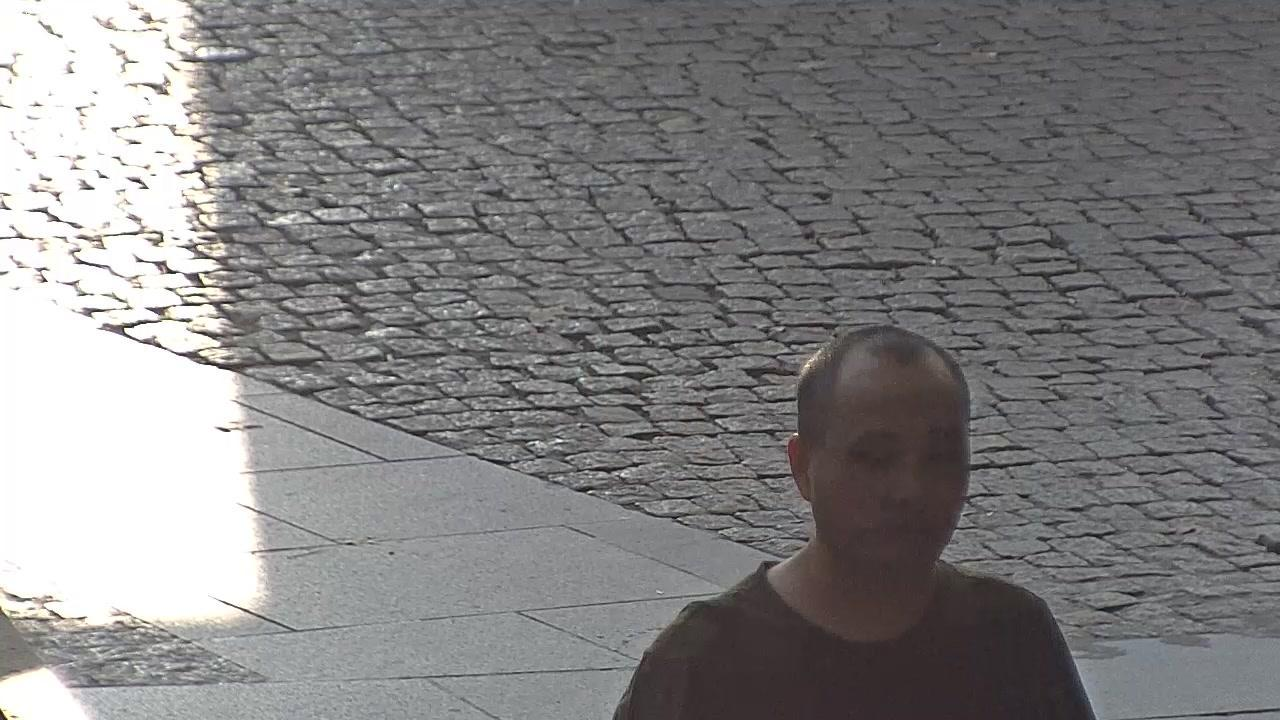face: (811, 350, 968, 572)
